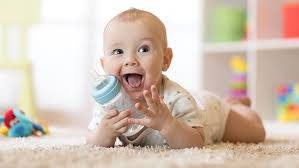child: (90, 4, 273, 150)
